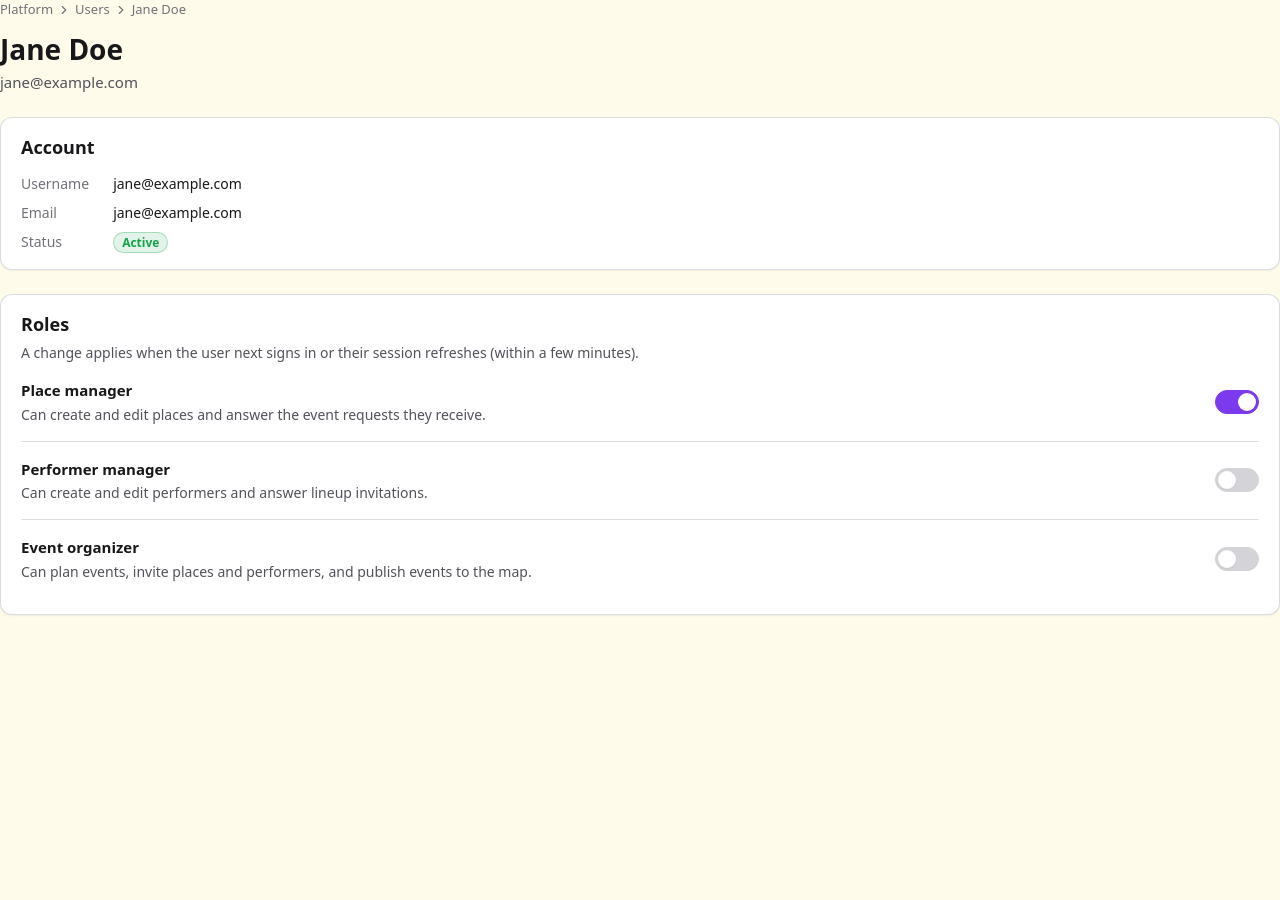
Test case: UserDetailPage › changes nothing when the confirmation is cancelled
The image size is (1280, 900).
What coordinates should you click on to do the following:
click the switch named "Performer manager" in the row of "Performer manager"
I would click on:
 (1237, 480)
Its box is [1215,468,1259,492].
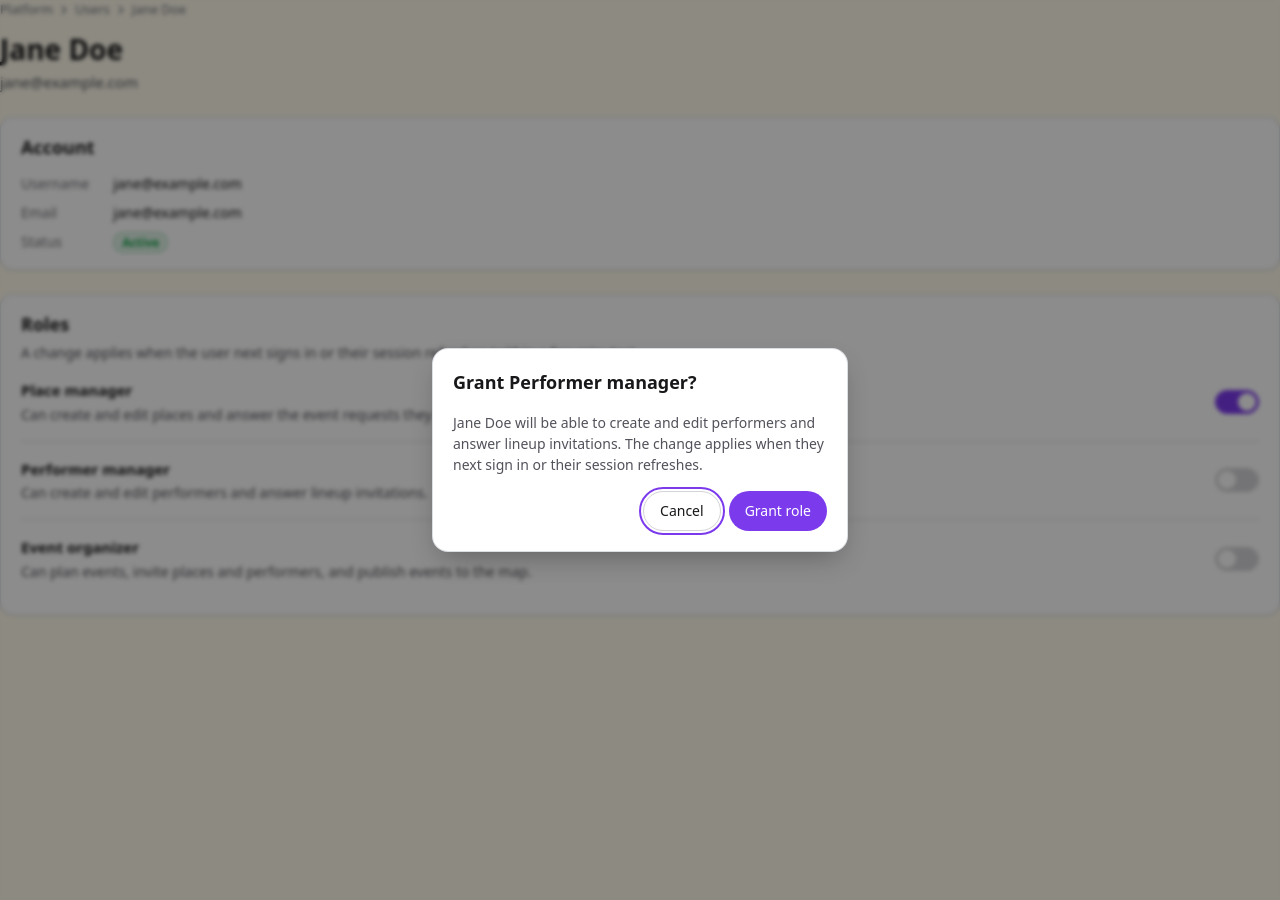
What coordinates should you click on to do the following:
click the button "Cancel"
I would click on:
 (682, 511)
Its box is [643,491,721,531].
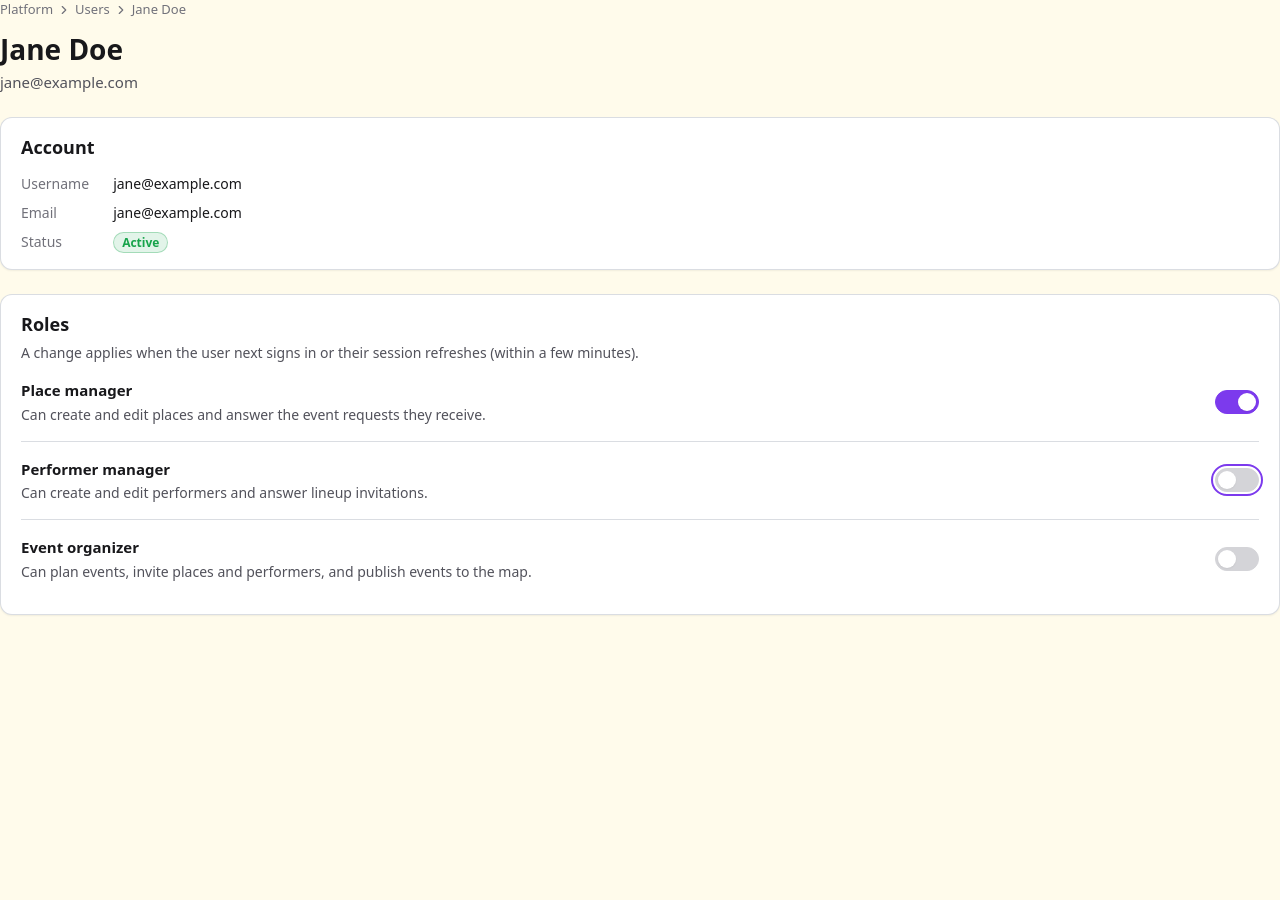
Expected: the switch named "Performer manager" in the row of "Performer manager" is not checked, [1215,468,1259,492]
Expected: the dialog is gone
